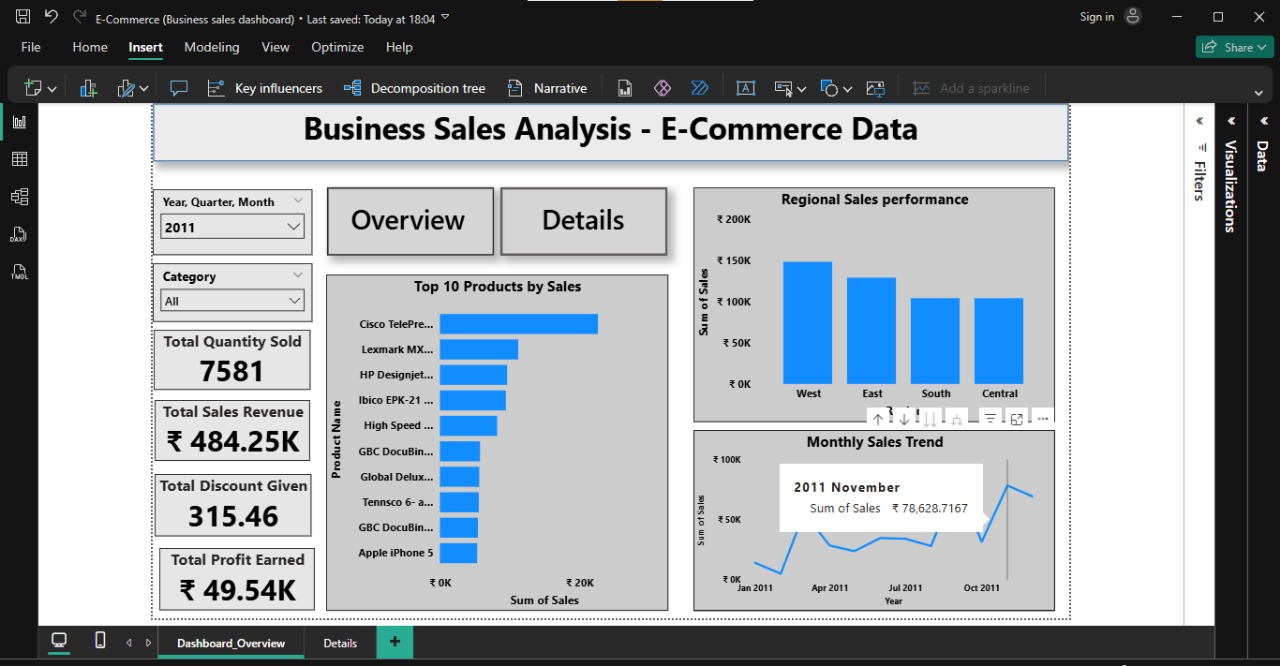

The page's visual inventory and layout, read from the dashboard file:
{"tool":"powerbi","page":{"name":"Dashboard_Overview","canvas":[1280,720],"ordinal":0},"visuals":[{"type":"shape","box":[0,0,1280,81.9],"z":0},{"type":"textbox","box":[0,0,1279.4,82.5],"z":1000},{"type":"card","title":"Total Quantity Sold","fields":{"Values":["Sum(Orders.Quantity)"]},"box":[1.5,317.4,218.9,83.8],"z":2000},{"type":"card","title":"Total Sales Revenue","fields":{"Values":["Sum(Orders.Sales)"]},"box":[2.9,414.4,217.5,85.2],"z":3000},{"type":"card","title":"Total Discount Given","fields":{"Values":["Sum(Orders.Discount)"]},"box":[2.9,518.7,218.9,86.7],"z":4000},{"type":"card","title":"Total Profit Earned","fields":{"Values":["Sum(Orders.Profit)"]},"box":[8.8,621.6,217.5,86.7],"z":5000},{"type":"columnChart","title":" Regional Sales performance","fields":{"Category":["People.Region"],"Y":["Sum(Orders.Sales)"]},"box":[755.3,117.6,505.5,327.7],"z":6000},{"type":"lineChart","title":"Monthly Sales Trend","fields":{"Y":["Sum(Orders.Sales)"],"Category":["Orders.Order Date.Variation.Date Hierarchy.Year","Orders.Order Date.Variation.Date Hierarchy.Month"]},"box":[755.3,457,505.5,252.7],"z":7000},{"type":"barChart","title":"Top 10 Products by Sales","fields":{"Category":["Orders.Product Name"],"Y":["Sum(Orders.Sales)"]},"box":[242.4,239.5,477.6,470.2],"z":8000},{"type":"shape","box":[242.9,117.5,233.3,95.2],"z":9000},{"type":"shape","box":[485.7,117.5,233.3,95.2],"z":10000},{"type":"textbox","box":[254,131.7,204.8,69.8],"z":11000},{"type":"textbox","box":[500,131.7,201.6,69.8],"z":12000},{"type":"actionButton","box":[485.7,117.5,233.3,95.2],"z":13000},{"type":"slicer","fields":{"Values":["Orders.Order Date.Variation.Date Hierarchy.Year","Orders.Order Date.Variation.Date Hierarchy.Quarter","Orders.Order Date.Variation.Date Hierarchy.Month"]},"box":[0,120.9,223.4,92.4],"z":14000},{"type":"slicer","fields":{"Values":["Orders.Category"]},"box":[0,223.3,223.3,82.3],"z":15000}]}

Visuals, with their boxes on the page's 1280x720 design canvas (x1, y1, x2, y2). These are canvas units, not pixel positions in the 1280x666 screenshot, which may show the page scaled, cropped or inside an application window:
shape: (0,0,1280,82)
textbox: (0,0,1279,82)
"Total Quantity Sold" card: (2,317,220,401)
"Total Sales Revenue" card: (3,414,220,500)
"Total Discount Given" card: (3,519,222,605)
"Total Profit Earned" card: (9,622,226,708)
" Regional Sales performance" columnChart: (755,118,1261,445)
"Monthly Sales Trend" lineChart: (755,457,1261,710)
"Top 10 Products by Sales" barChart: (242,240,720,710)
shape: (243,118,476,213)
shape: (486,118,719,213)
textbox: (254,132,459,202)
textbox: (500,132,702,202)
actionButton: (486,118,719,213)
slicer - Orders.Order Date.Variation.Date Hierarchy.Year x Orders.Order Date.Variation.Date Hierarchy.Quarter: (0,121,223,213)
slicer - Orders.Category: (0,223,223,306)
